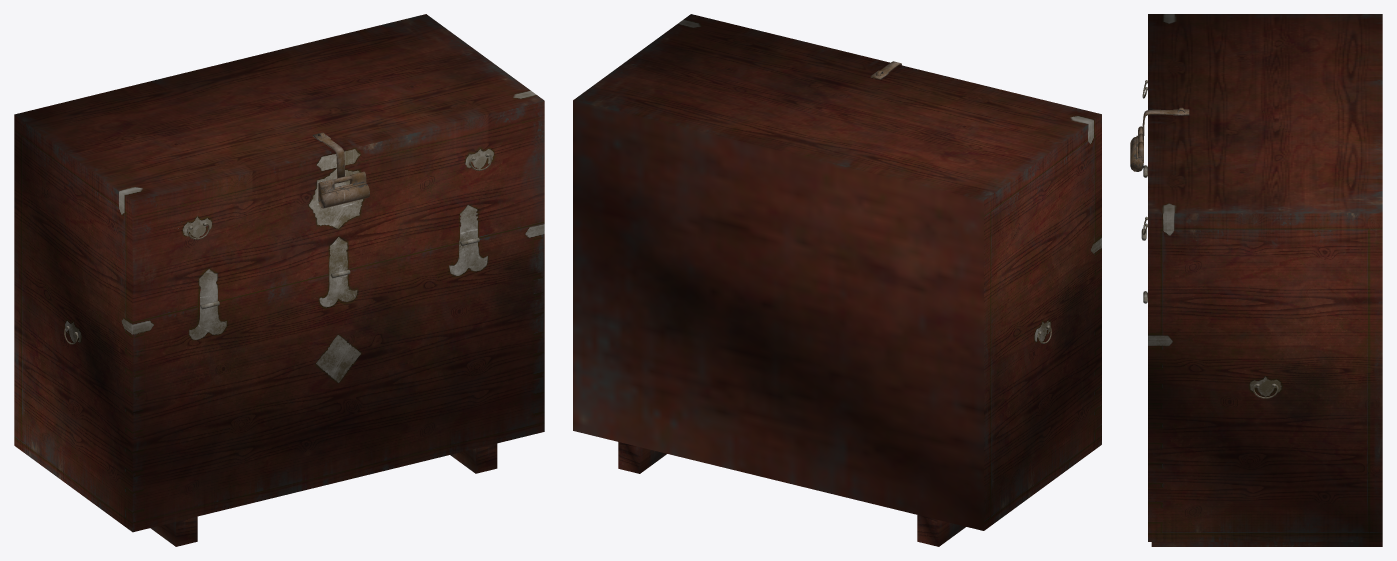
Rendered from SM_Cabinet01b.FBX.
The picture shows the model from 3 angles, left to right: view 1: azimuth 30°, elevation 25°; view 2: azimuth 150°, elevation 25°; view 3: azimuth 270°, elevation 25°; orthographic projection.
Parts seen in each view (by area): view 1: SM_Cabinet01b; view 2: SM_Cabinet01b; view 3: SM_Cabinet01b.
Part boxes in pixels (x1,y1,x2,y2): SM_Cabinet01b: (14,14,544,546); SM_Cabinet01b: (573,14,1101,546); SM_Cabinet01b: (1130,14,1382,546).
Size of the model in its own units: 130 by 107 by 67.79.
Materials: 1 (1 with a texture image).
